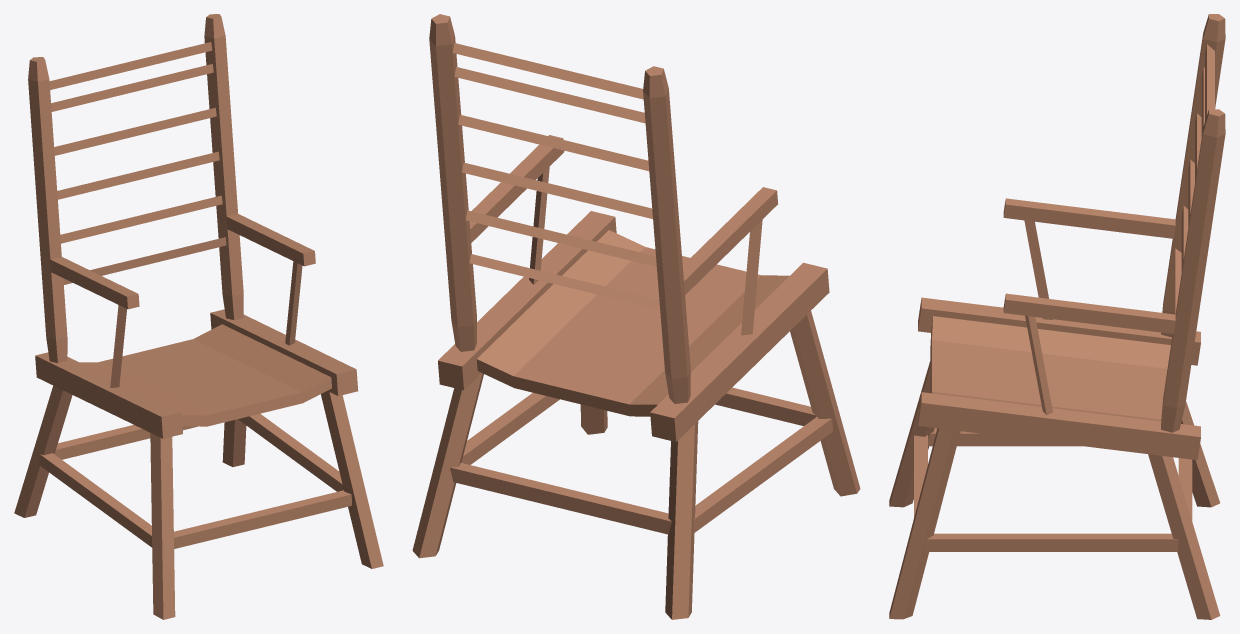
Rendered from misc_chair01.gltf.
3 views of the same model, side by side, from view 1: azimuth 30°, elevation 25°; view 2: azimuth 150°, elevation 25°; view 3: azimuth 270°, elevation 25° (orthographic). The views are drawn at different scales.
Visible parts, largest first — view 1: misc_chair01; view 2: misc_chair01; view 3: misc_chair01.
Boxes of the visible parts, x1,y1,x2,y2 form: misc_chair01: [14, 14, 383, 619]; misc_chair01: [412, 14, 860, 619]; misc_chair01: [889, 14, 1225, 619].
Size of the model in its own units: 1.13 by 2.13 by 1.31.
